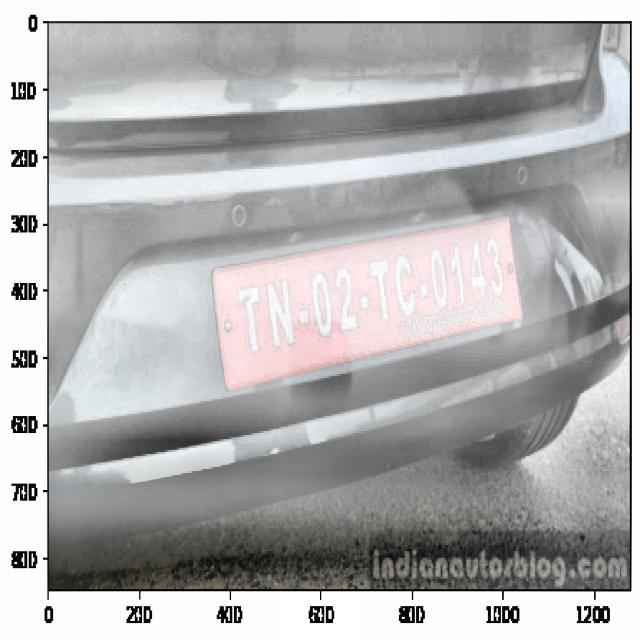license_plate: (232, 230, 510, 361)
